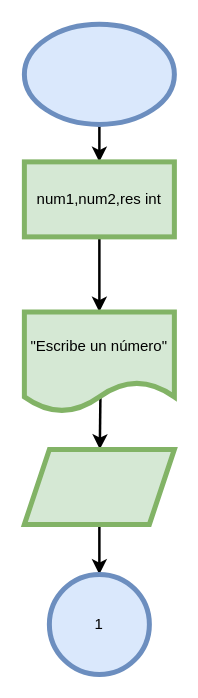
Image size: 198x698. Some labels were removed from this diagram. Here are the shapes that lost their labels. From the top down, the centre of each, then its label:
[98,73]: Inicio
[98,486]: num1
